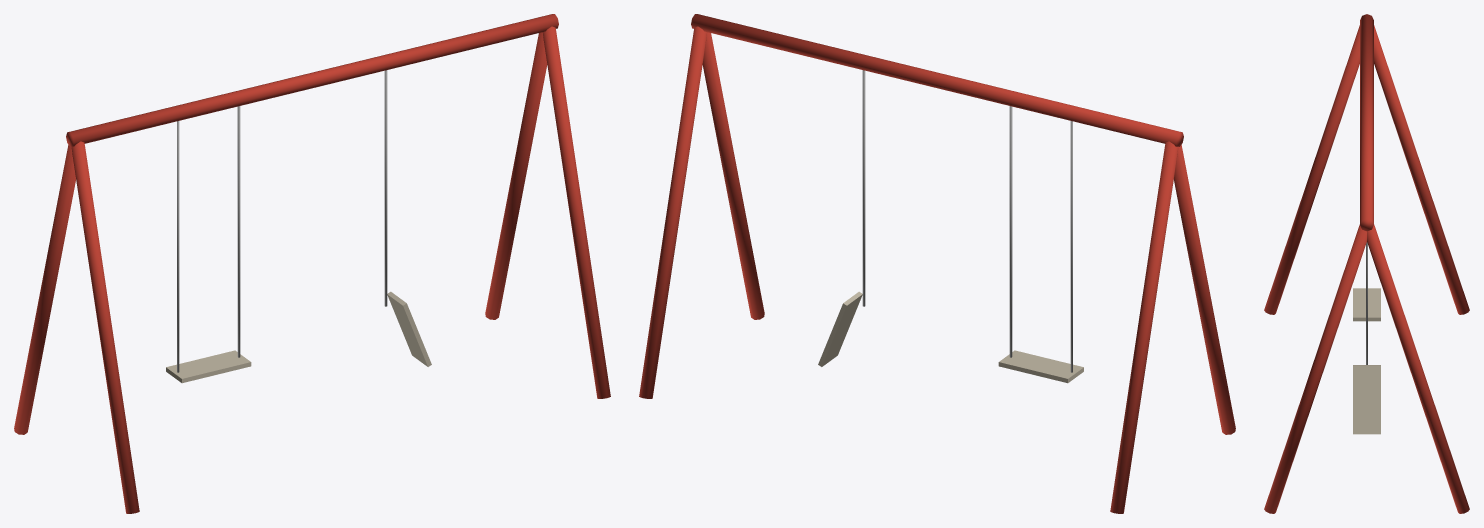
File: hood_swings.glb
3 views of the same model, side by side, from view 1: azimuth 30°, elevation 25°; view 2: azimuth 150°, elevation 25°; view 3: azimuth 270°, elevation 25° (orthographic). The views are drawn at different scales.
Visible parts, largest first — view 1: a_leg, chain, seat; view 2: a_leg, chain, seat; view 3: a_leg, seat.
Boxes of the visible parts, x1=… form: a_leg: x1=14, y1=14, x2=610, y2=513; chain: x1=177, y1=70, x2=387, y2=372; seat: x1=166, y1=291, x2=431, y2=383; a_leg: x1=639, y1=14, x2=1235, y2=513; chain: x1=862, y1=70, x2=1072, y2=372; seat: x1=818, y1=291, x2=1083, y2=383; a_leg: x1=1264, y1=14, x2=1469, y2=513; seat: x1=1353, y1=288, x2=1380, y2=434.
Size of the model in its own units: 3.5 by 2.36 by 1.49.
